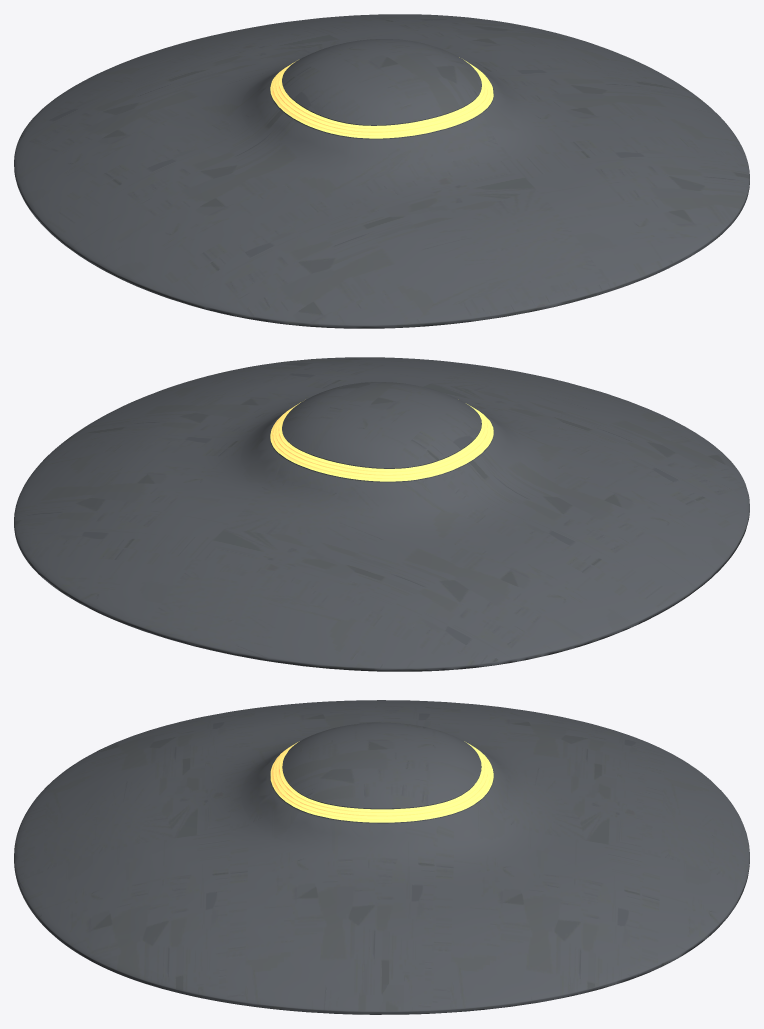
Rendered from ufo.glb.
The picture shows the model from 3 angles, top to bottom: view 1: azimuth 30°, elevation 25°; view 2: azimuth 150°, elevation 25°; view 3: azimuth 270°, elevation 25°; orthographic projection. The views are drawn at different scales.
Visible parts, largest first — view 1: UFO_UFO Metal_0, UFO_Ventanilla_0; view 2: UFO_UFO Metal_0, UFO_Ventanilla_0; view 3: UFO_UFO Metal_0, UFO_Ventanilla_0.
Boxes of the visible parts, x1,y1,x2,y2 form: UFO_UFO Metal_0: (14, 14, 749, 328); UFO_Ventanilla_0: (270, 57, 493, 138); UFO_UFO Metal_0: (14, 357, 749, 671); UFO_Ventanilla_0: (270, 402, 493, 481); UFO_UFO Metal_0: (14, 700, 749, 1014); UFO_Ventanilla_0: (270, 741, 493, 822).
Bounding box in the file's own units: 9.37 × 2.49 × 9.37.
Materials: 3 (2 with a texture image).
